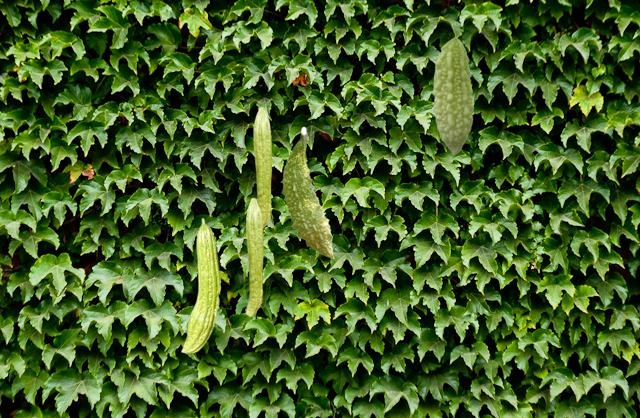ampalaya: (280, 126, 334, 259), (180, 217, 221, 354), (431, 36, 474, 155), (253, 107, 272, 227), (245, 197, 263, 317)
